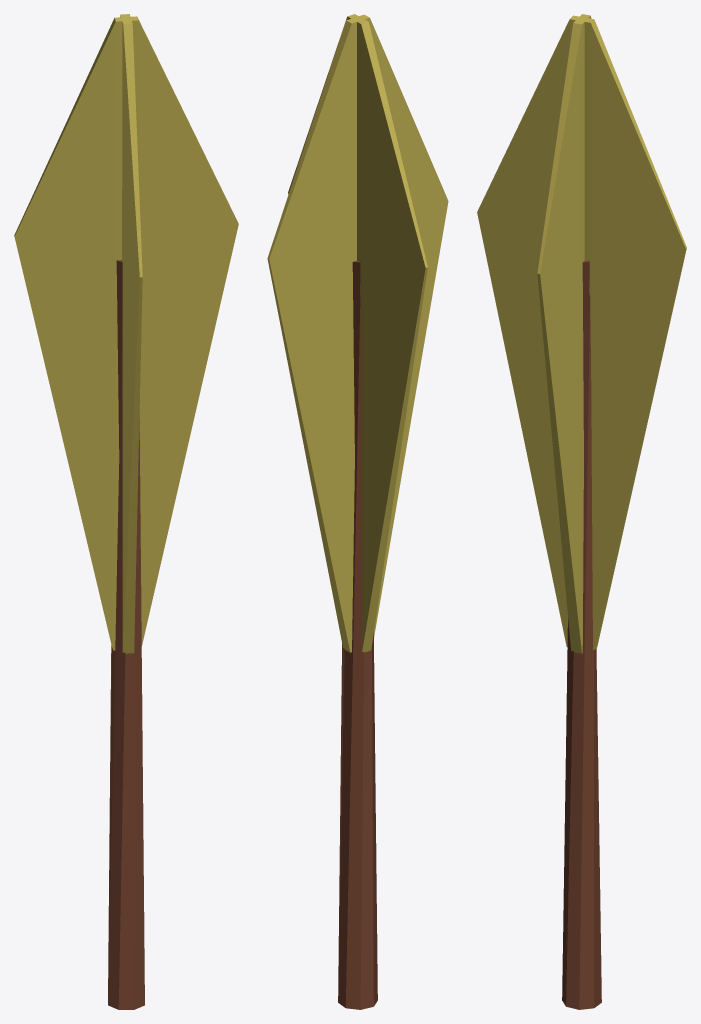
File: Tree_30_autumn_vc.fbx
3 views of the same model, side by side, from view 1: azimuth 30°, elevation 25°; view 2: azimuth 150°, elevation 25°; view 3: azimuth 270°, elevation 25° (orthographic).
Parts seen in each view (by area): view 1: Tree_30_autumn_vc; view 2: Tree_30_autumn_vc; view 3: Tree_30_autumn_vc.
Part boxes in pixels (left/top/right/bottom): Tree_30_autumn_vc: left=14, top=14, right=238, bottom=1009; Tree_30_autumn_vc: left=267, top=14, right=448, bottom=1009; Tree_30_autumn_vc: left=477, top=14, right=686, bottom=1009.
Size of the model in its own units: 48.99 by 253 by 48.99.
